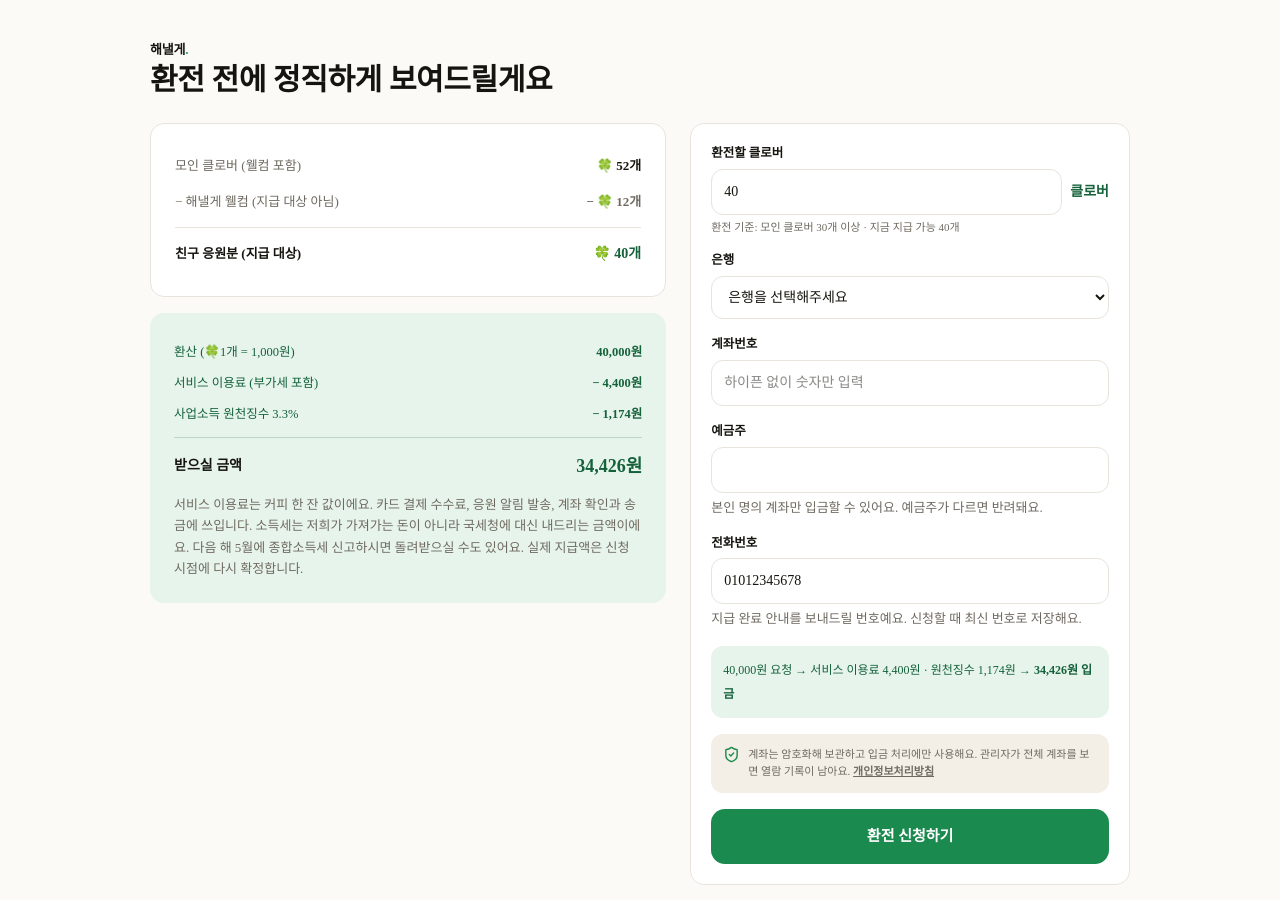
Test: CashoutRequestForm › TC-V37-01 정상 경로: 최종 확인은 전용 화면으로 전환해 신청 분해표와 내역을 숨긴다
The image size is (1280, 900).
Select "KB국민은행" in the dropdown labelled "은행" at (910, 298), box x1=711 y1=276 x2=1109 y2=319
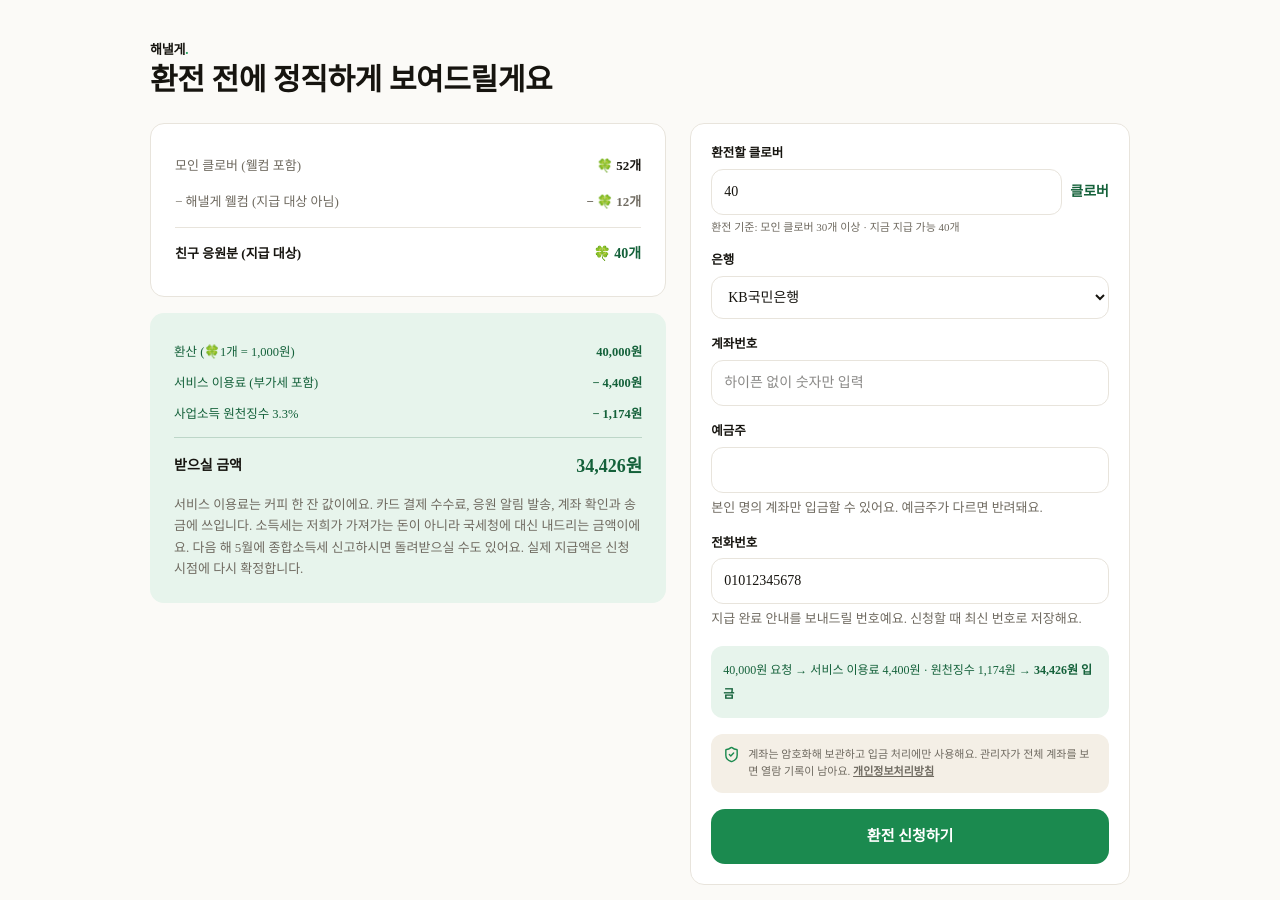
Type "123456789012" into the field labelled "계좌번호" at (910, 383), box x1=711 y1=360 x2=1109 y2=406
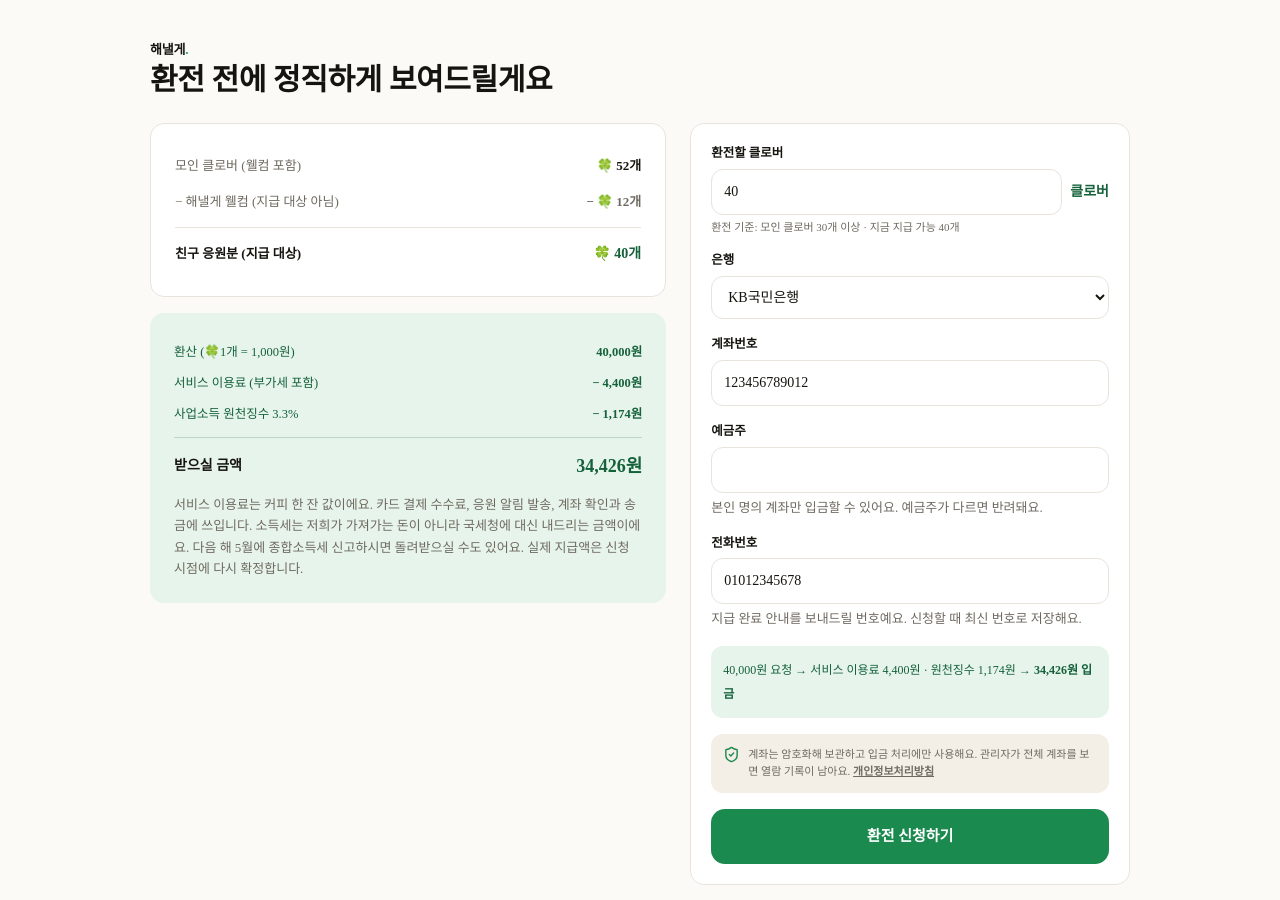
Type "홍길동" into the field labelled "예금주" at (910, 470), box x1=711 y1=447 x2=1109 y2=493
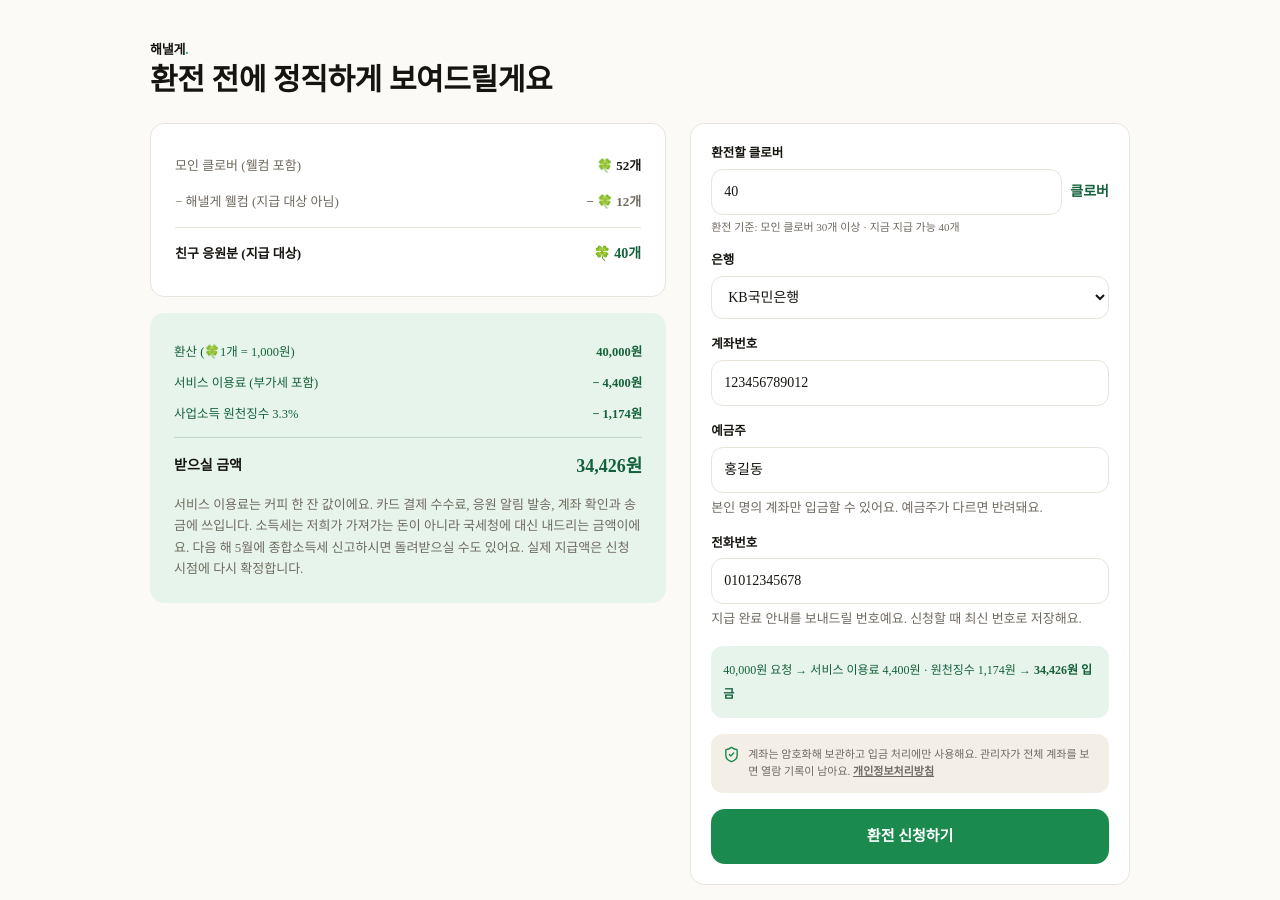
Click the button with test id "cashout-confirm-button" at (910, 837), box x1=711 y1=809 x2=1109 y2=864
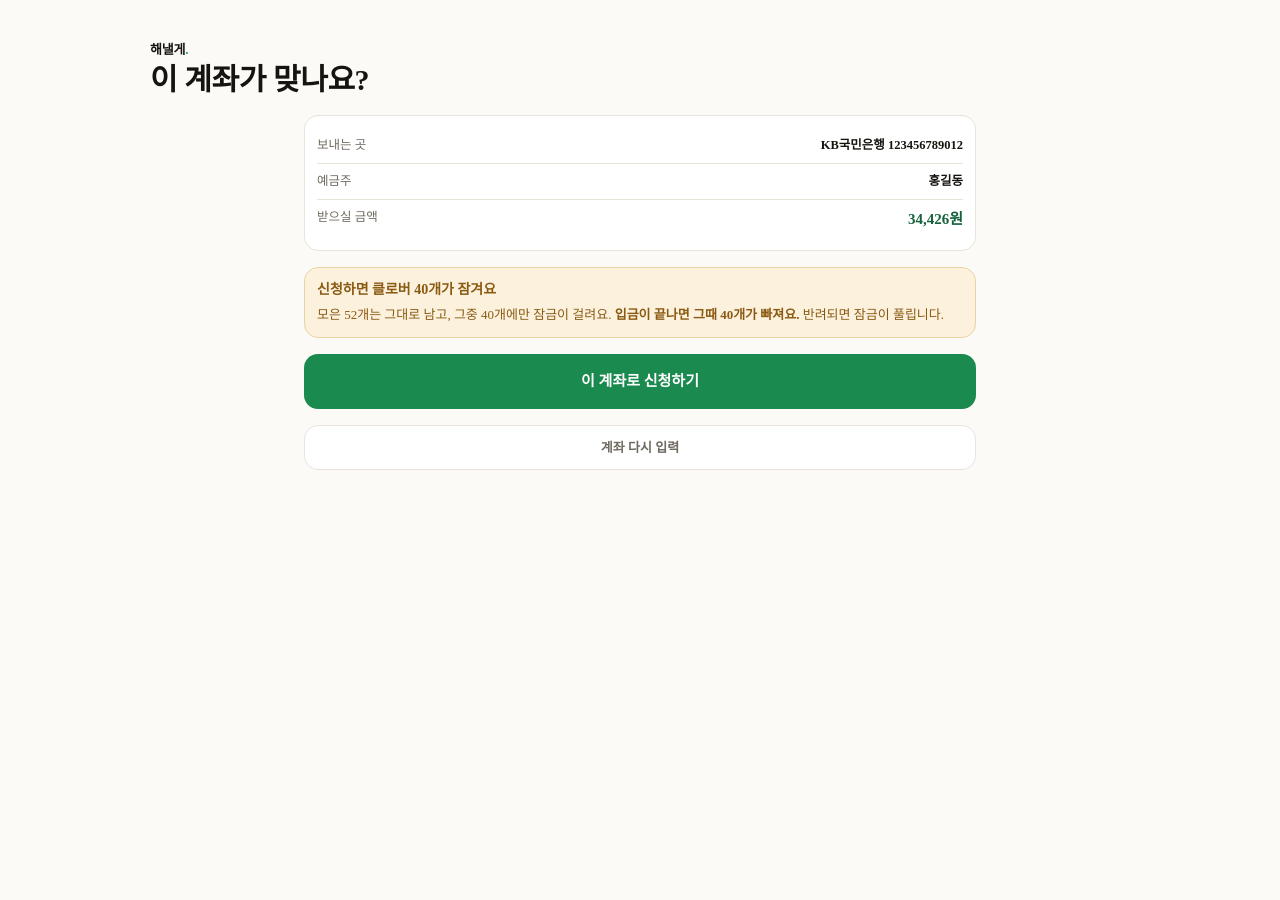
Expected: the heading "이 계좌가 맞나요?" is shown, x1=150 y1=62 x2=369 y2=96
Expected: the element with test id "cashout-confirm-step" is shown, x1=304 y1=115 x2=976 y2=470
Expected: the element with test id "cashout-form-breakdown" is gone
